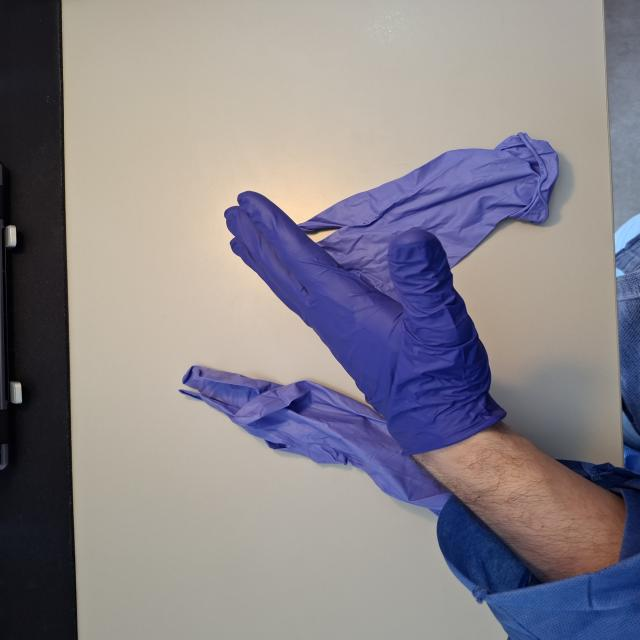glove_on: (221, 188, 493, 456)
